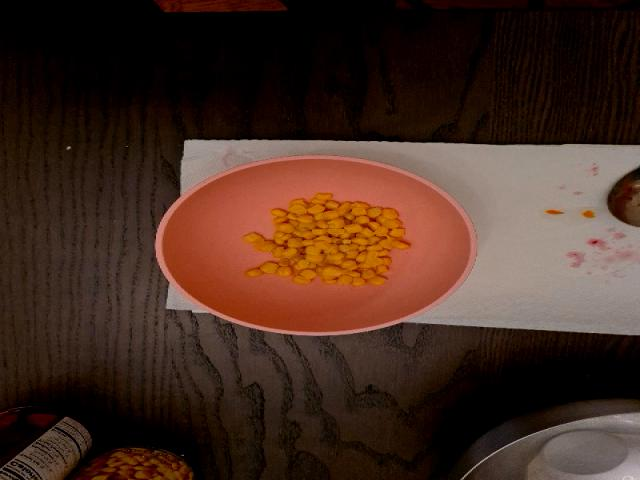kichen waste: (244, 194, 411, 286)
